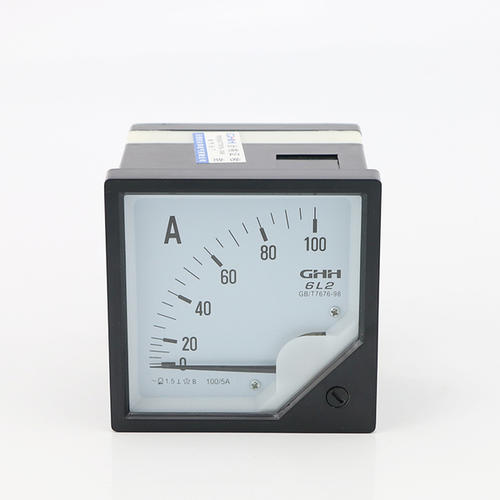pointer: (119, 191, 363, 416)
